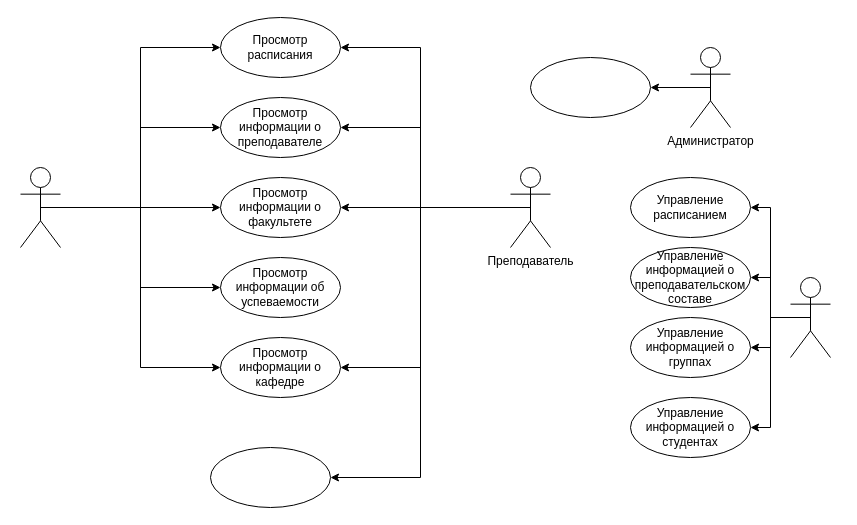
The diagram is 857 pixels wide and 525 high, and some of its shapes have lost their labels. The shapes that lost their labels are listed below. From the top down, each one's centre as x and y in pixels, then its label:
At point 590,87: "Администрирование Базы данных".
At point 40,207: "Студент".
At point 810,317: "Диспетчер".
At point 270,477: "Управление информацией о преподавателе".
